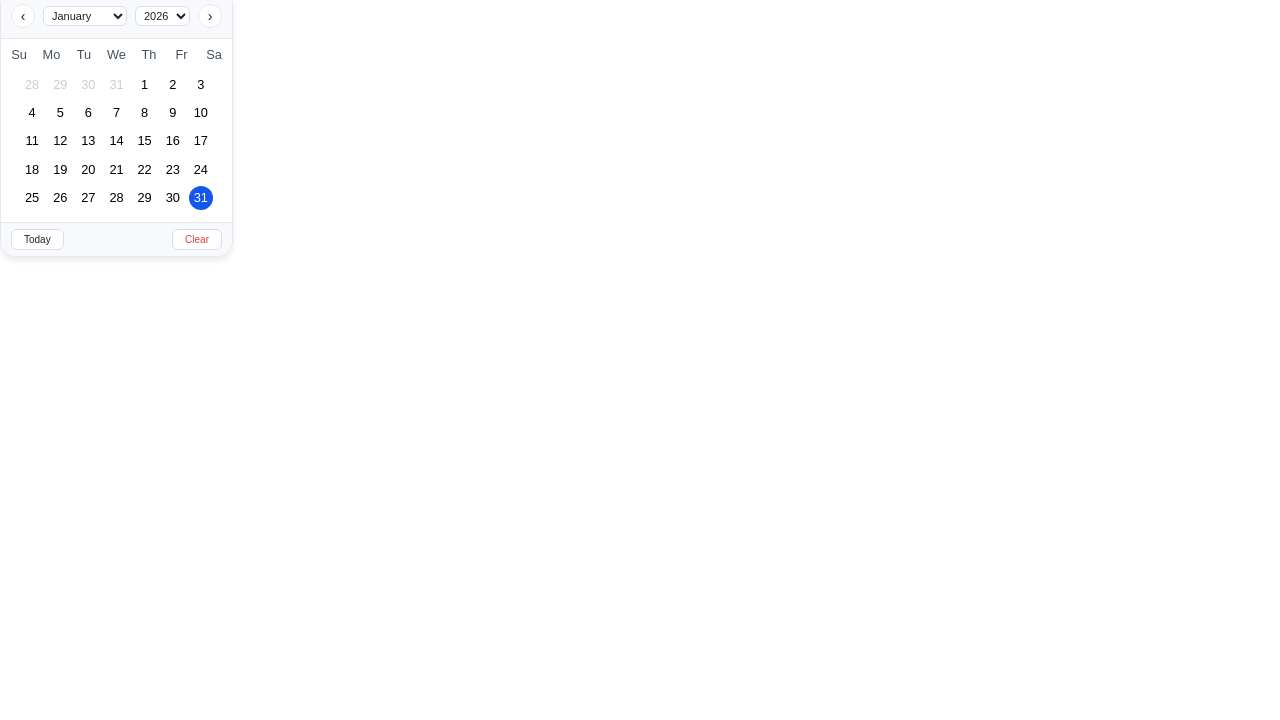
Scenario: DatePopup › moves from January 31 to February without accidentally saving a date
Click the button named "Next month": [210, 16] box [198, 4, 222, 28]
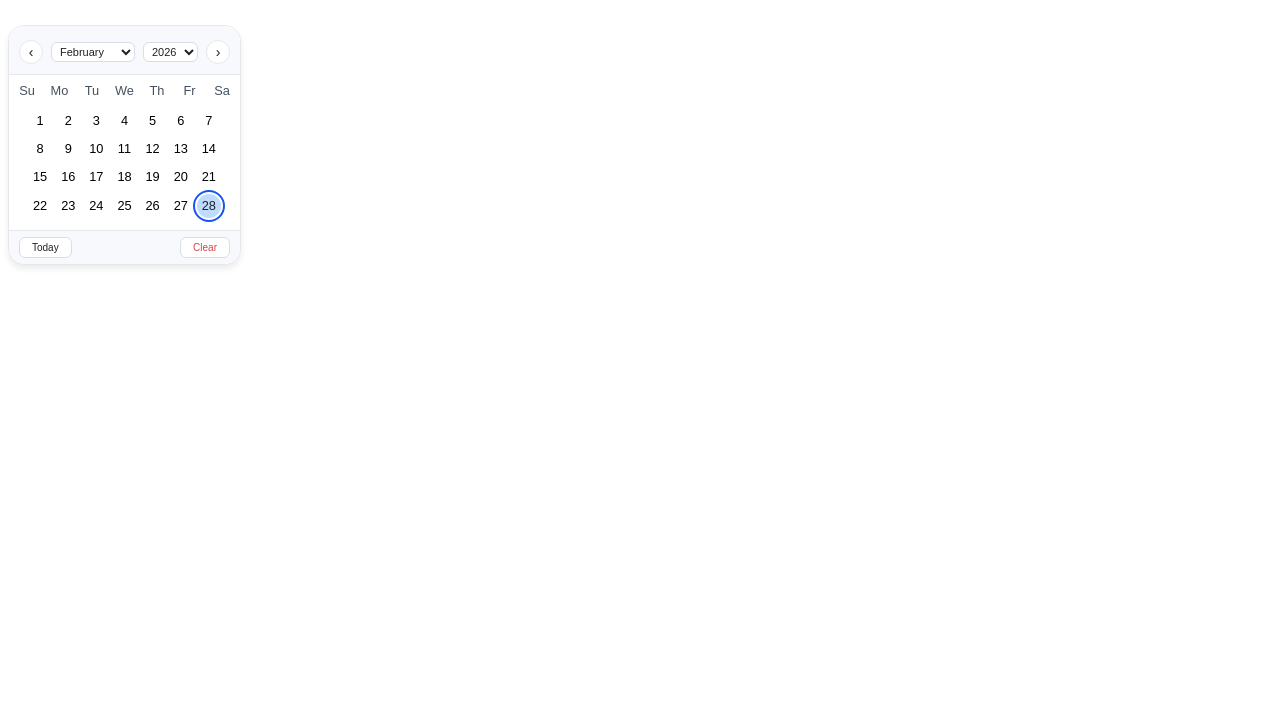
expect the dropdown named "Month" shows "February": met, box [51, 42, 135, 62]
